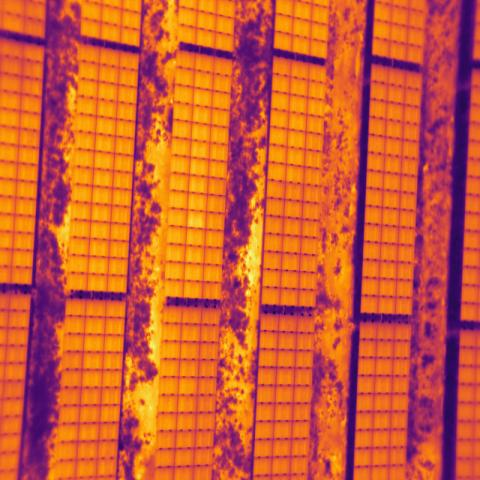fault: (187, 212, 206, 227)
